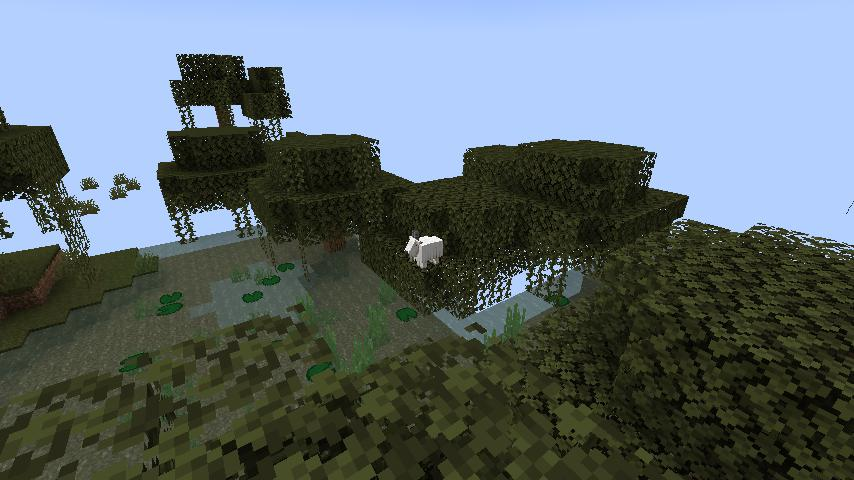goat: (405, 230, 444, 268)
